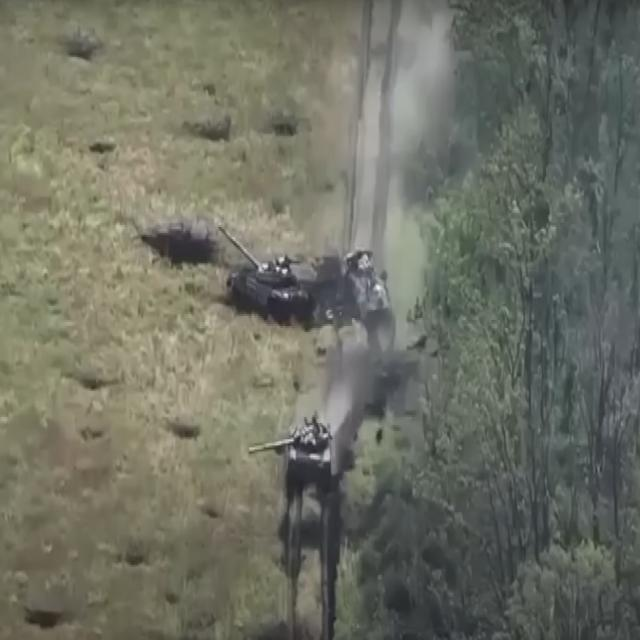APC: (344, 257, 395, 331)
MBT: (220, 226, 318, 325), (248, 413, 336, 488)
